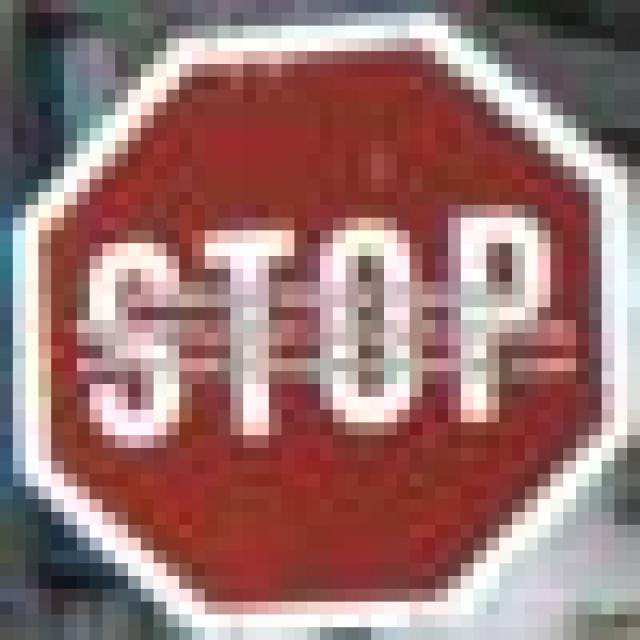STOP: (13, 26, 589, 588)
